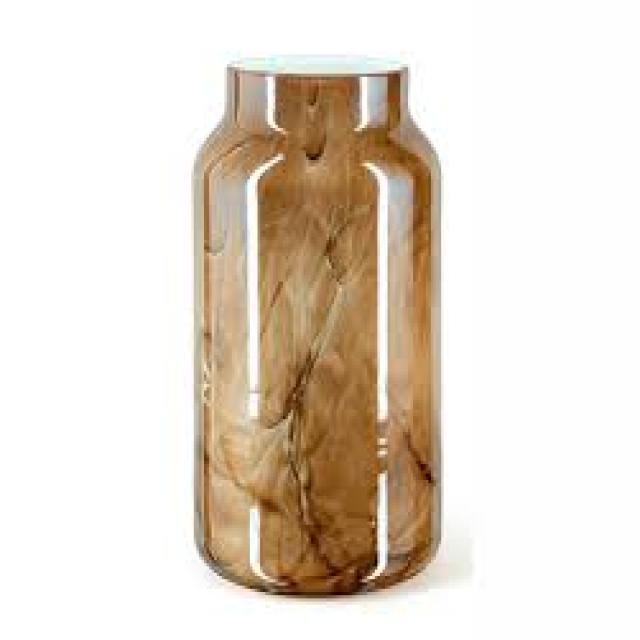glass: (189, 55, 441, 596)
